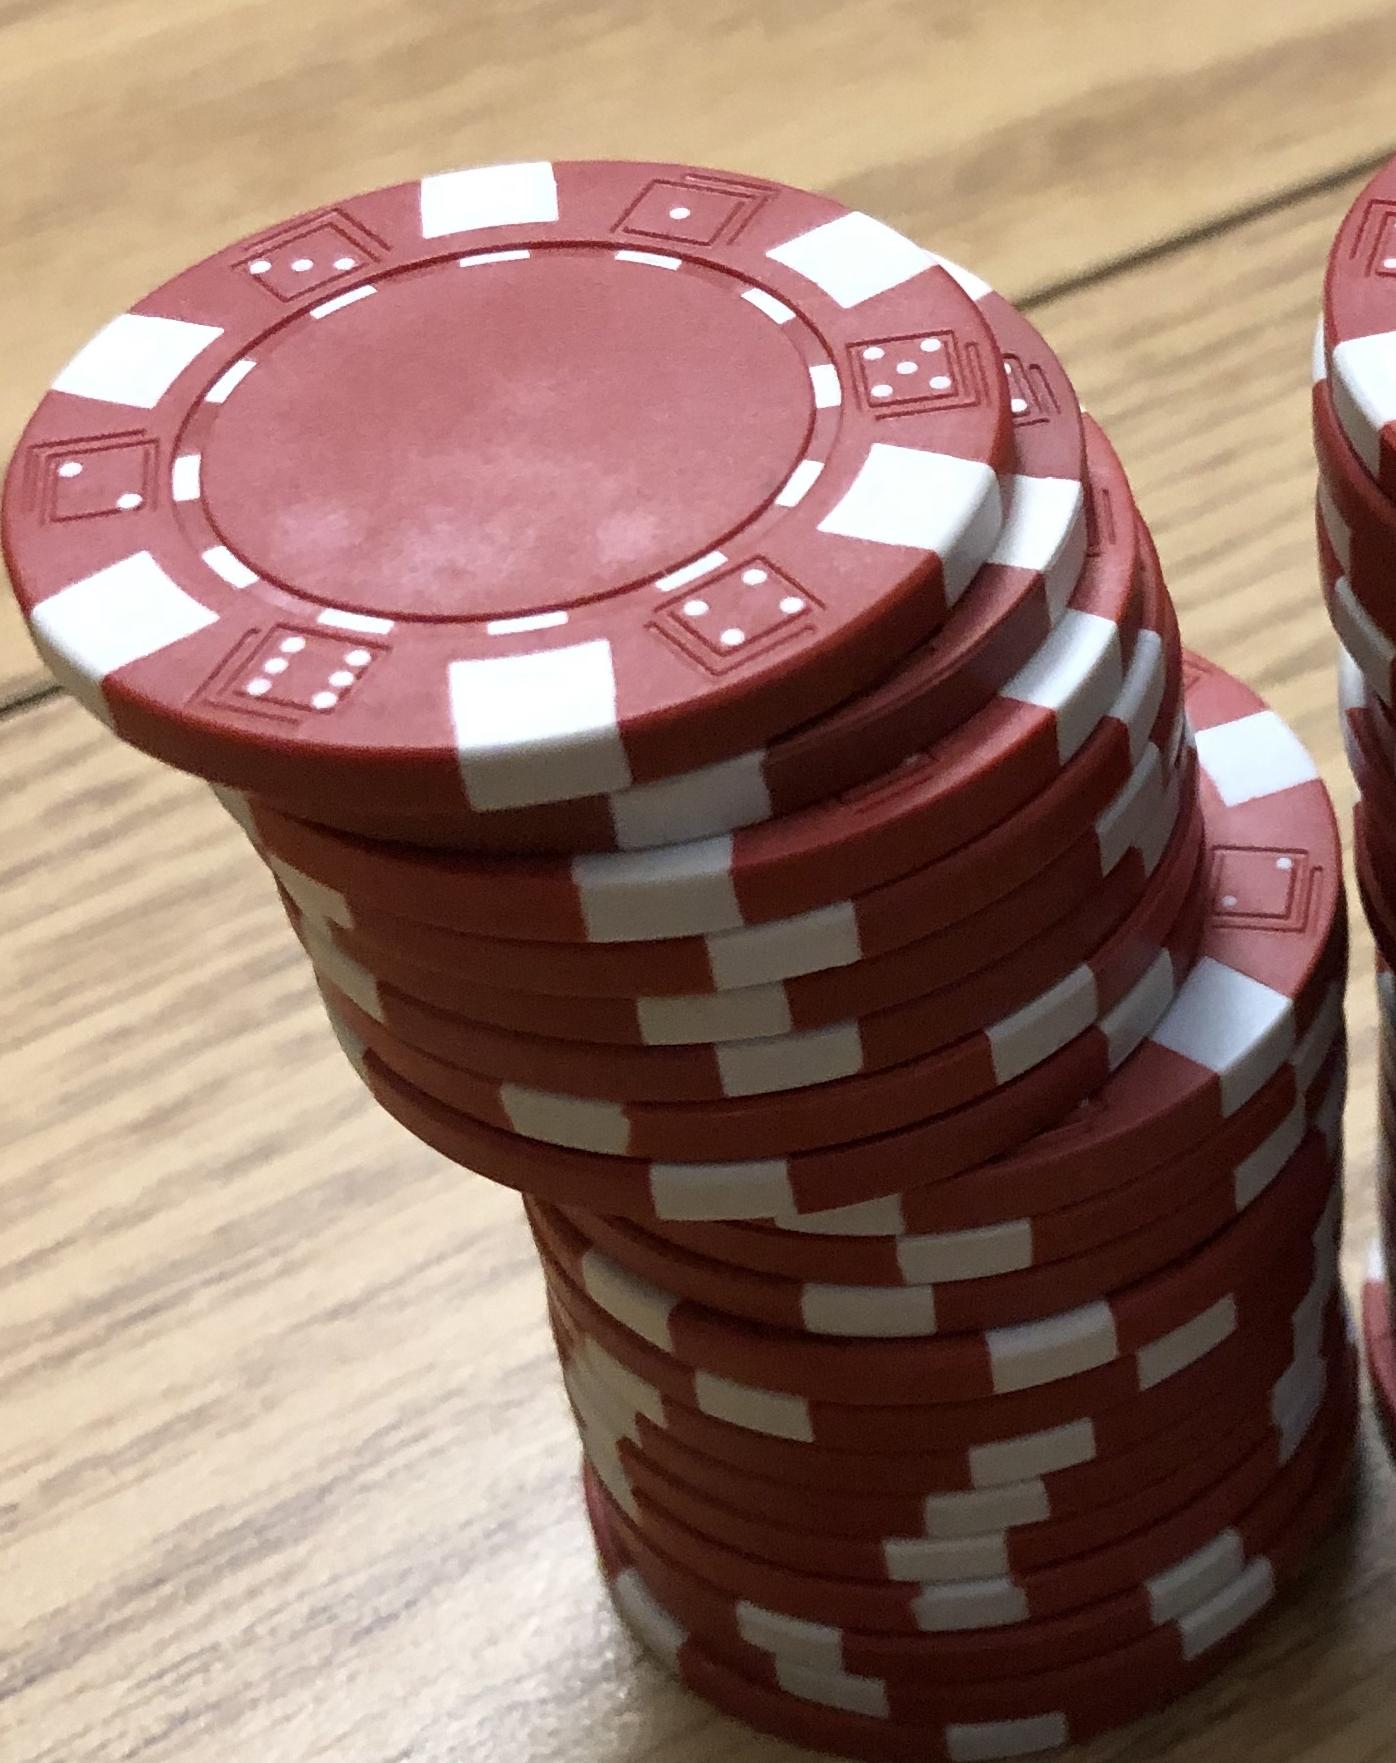Chip: (1, 1, 1396, 1763)
